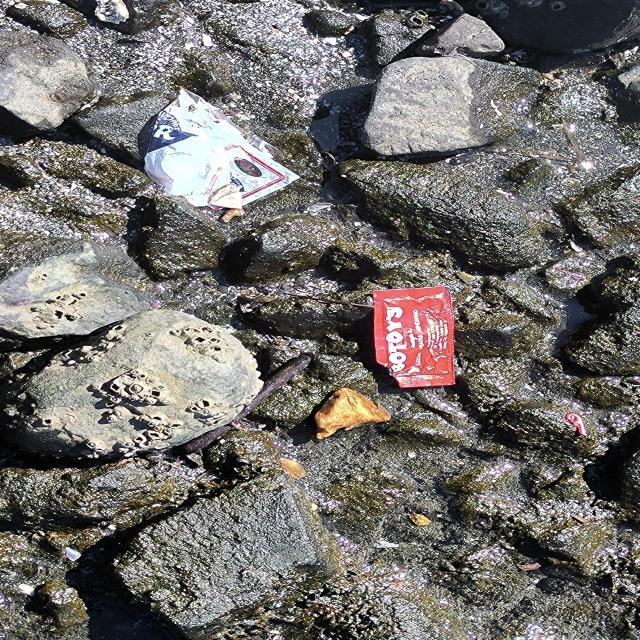plastic_waste: (147, 86, 303, 210), (371, 288, 460, 389)
